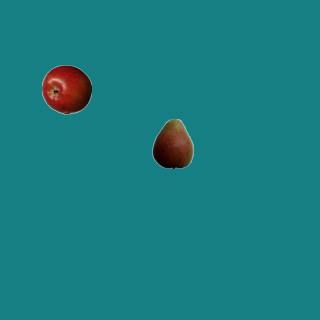Apple Braeburn: (41, 64, 91, 114)
Pear Forelle: (147, 118, 197, 168)
